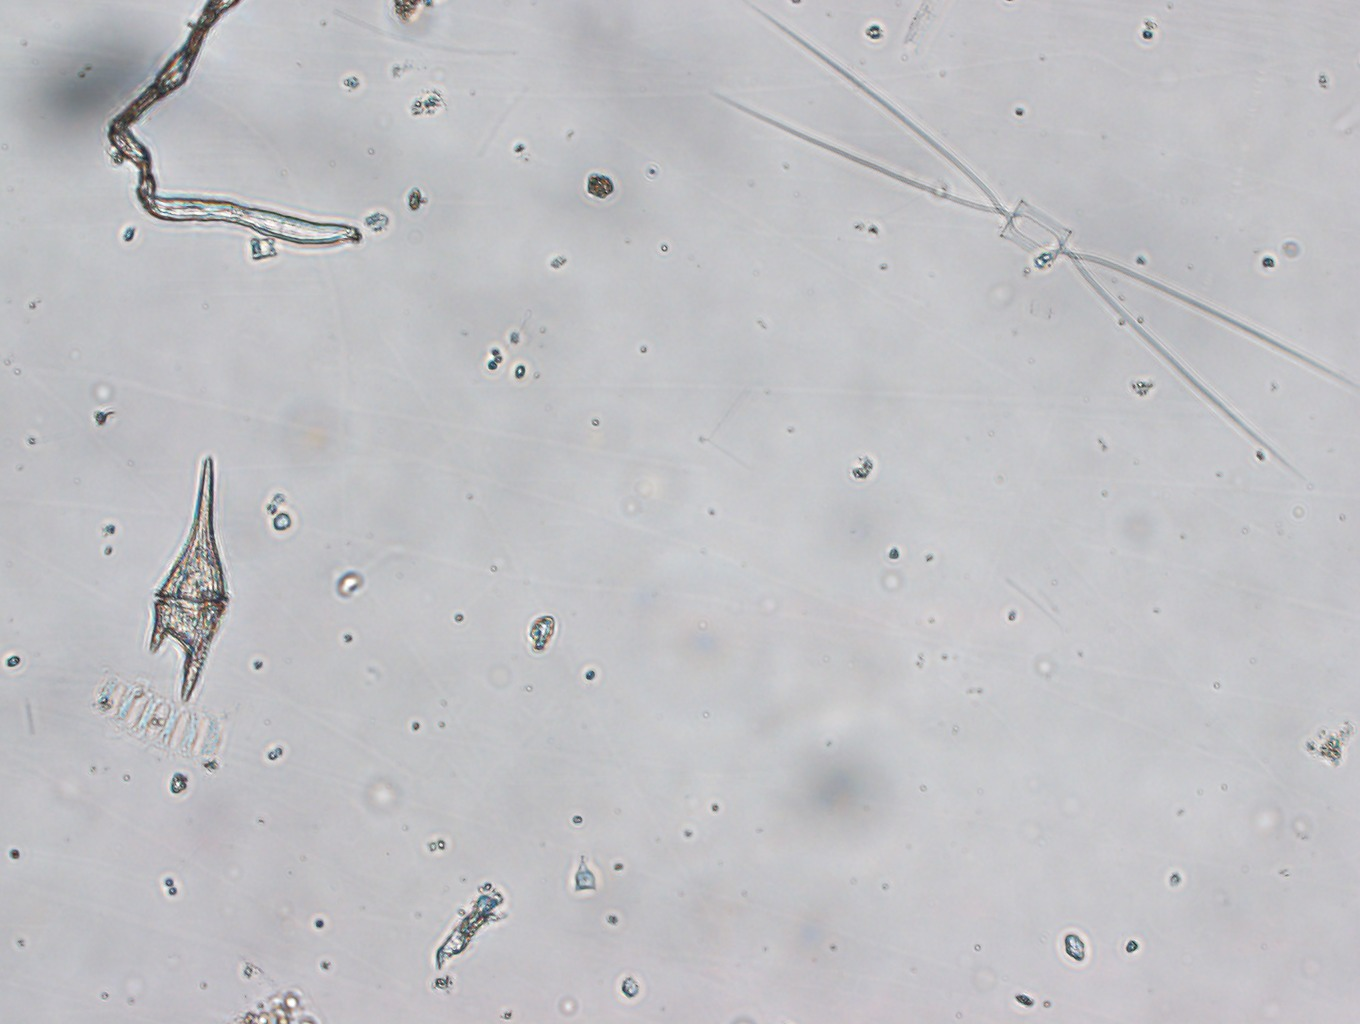ceratium furca: (145, 454, 237, 712)
chaetoceros: (700, 6, 1360, 457)
